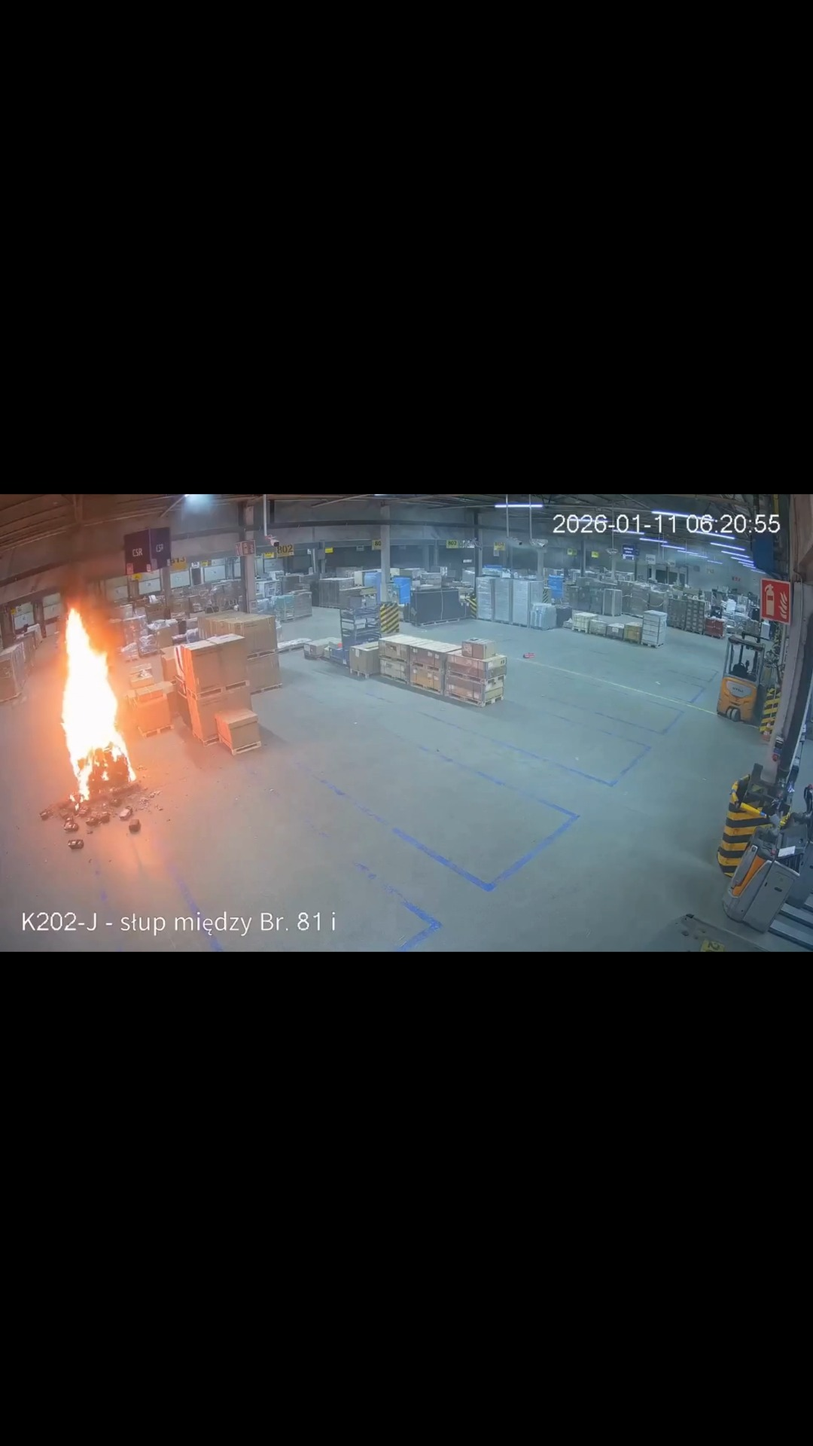fire: (59, 600, 137, 809)
smoke: (28, 499, 133, 617)
